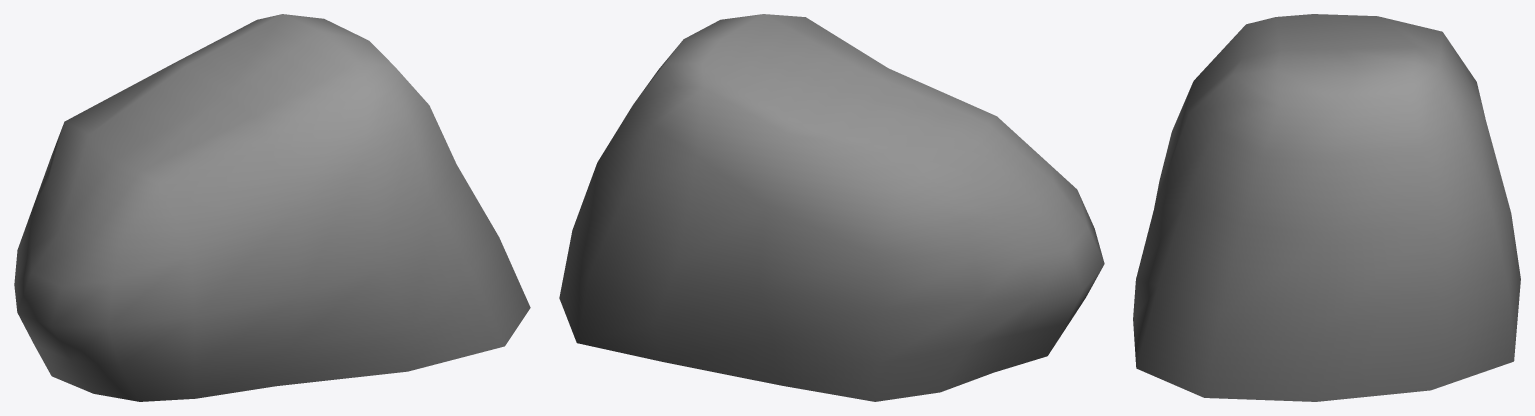
File: Stone_01_B.fbx
3 views of the same model, side by side, from view 1: azimuth 30°, elevation 25°; view 2: azimuth 150°, elevation 25°; view 3: azimuth 270°, elevation 25° (orthographic). The views are drawn at different scales.
Parts seen in each view (by area): view 1: Stone_01_B; view 2: Stone_01_B; view 3: Stone_01_B.
Boxes of the visible parts, x1,y1,x2,y2 form: Stone_01_B: [14, 14, 530, 401]; Stone_01_B: [559, 14, 1104, 401]; Stone_01_B: [1133, 14, 1520, 401].
Size of the model in its own units: 3579 by 1846 by 2485.
